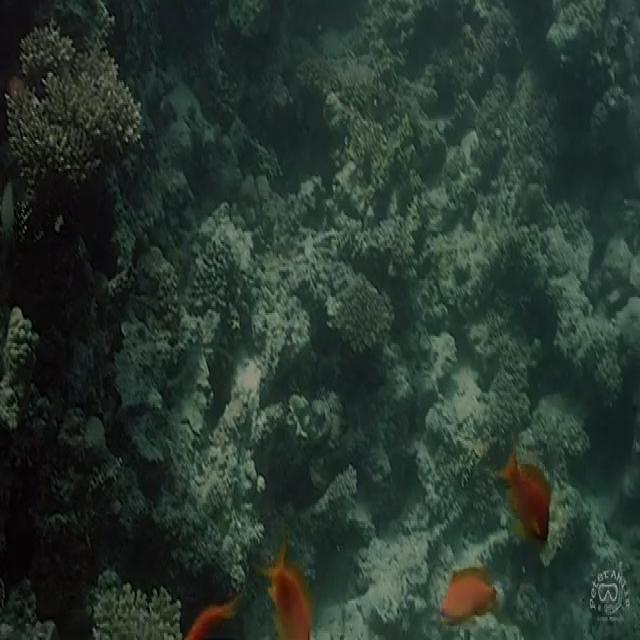Sea Goldie: (497, 443, 552, 545), (262, 531, 313, 640), (442, 563, 498, 621)
